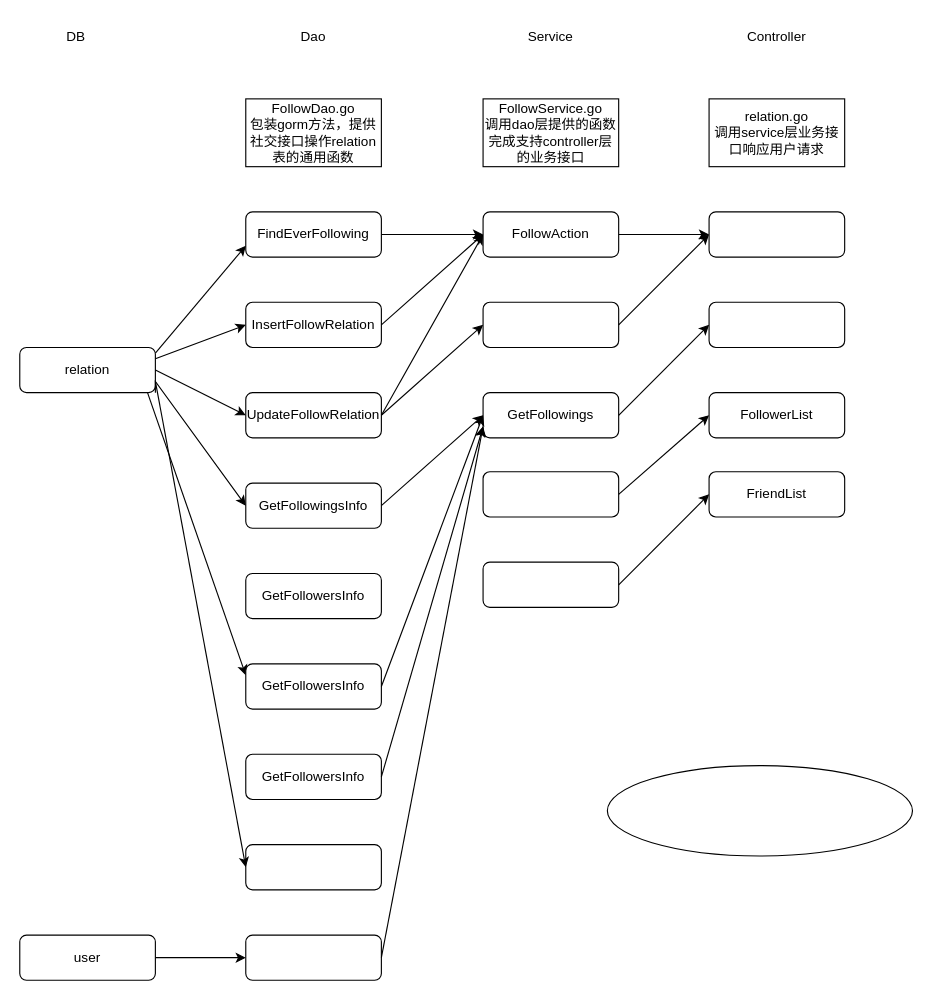
Image size: 932x1000. Some labels were removed from this diagram. Each missing label, with the centre of its shape:
CancelFollowAction: point (550, 324)
FindRelation: point (313, 867)
FollowList: point (776, 324)
GetFollowers: point (550, 494)
GetFollowings、GetFollowers、GetFriends三者用到相同的服务层接口: point (759, 810)
GetFriends: point (550, 584)
GetUserName: point (313, 957)
RelationAction: point (776, 234)
